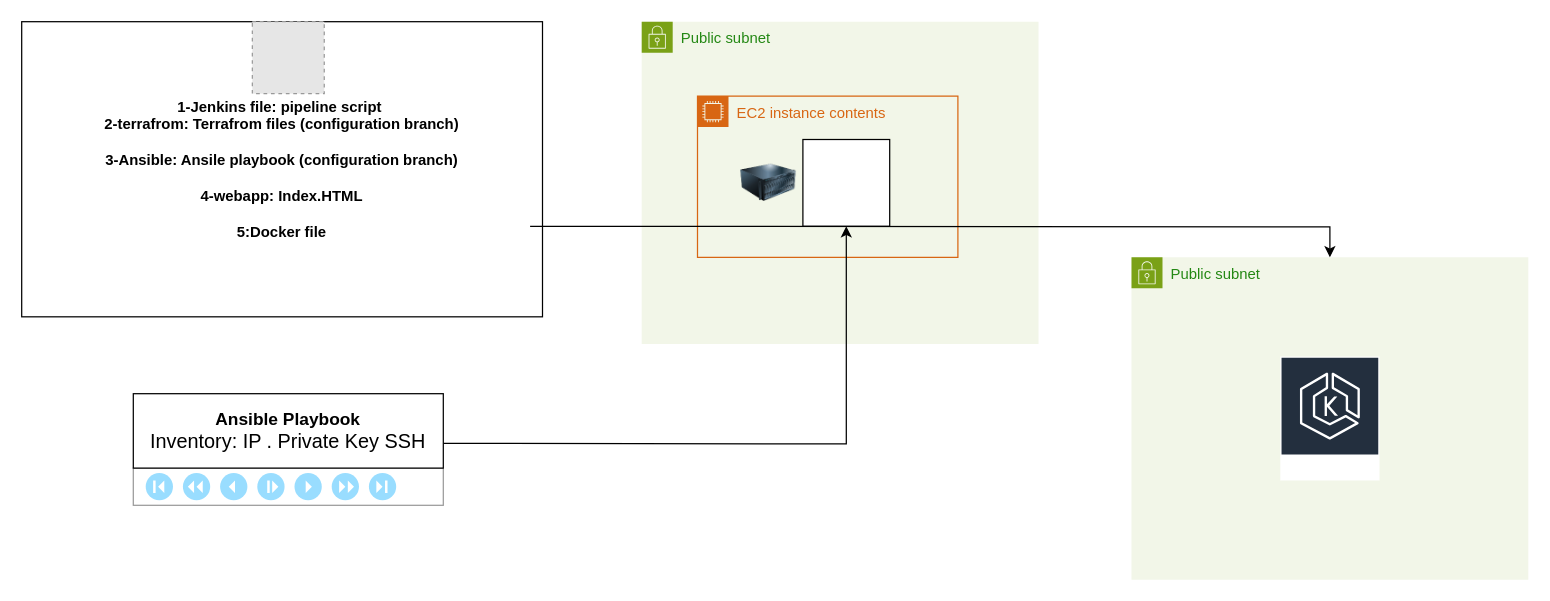
The diagram is 1550 pixels wide and 601 high, and some of its shapes have lost their labels. Grey dashed boxes stand in for pictures. Each missing label, with the centre of its shape:
"Amazon EKS" goes at (1329,417).
"Jenkins Server" goes at (846,182).
